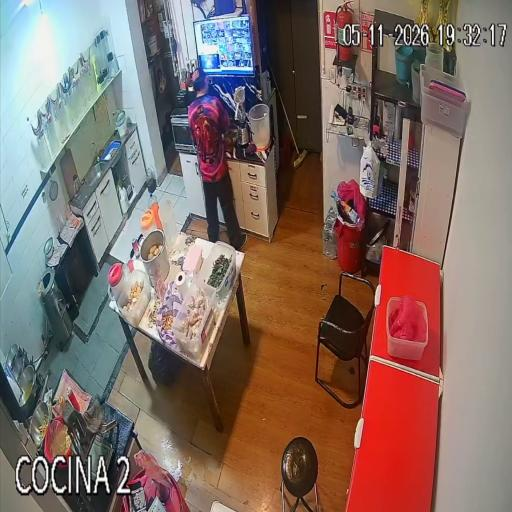Balde: (248, 104, 271, 150)
Envase Ketchup: (67, 386, 80, 411)
Envase Llajua: (59, 396, 65, 409)
Jarra1: (108, 263, 125, 300)
Jarra2: (141, 209, 157, 236)
Jarra3: (158, 196, 178, 248)
JarraLicuadora: (73, 174, 80, 195)
Microondas: (171, 109, 195, 153)
Persona1: (188, 70, 247, 250)
Taper: (198, 242, 235, 301)
Taper2: (172, 282, 217, 358)
Taper3: (118, 270, 150, 324)
Taper4: (386, 324, 428, 360), (386, 297, 401, 320), (415, 301, 428, 326)
olla1: (140, 229, 169, 287)
